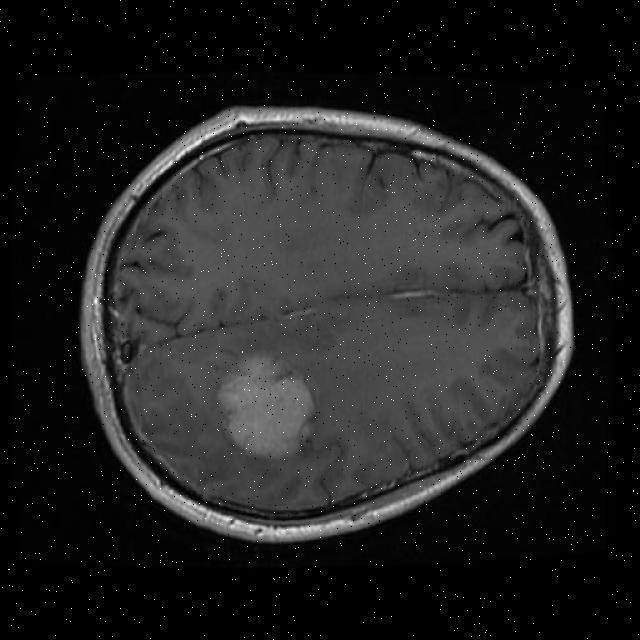Meningioma: (218, 356, 313, 458)
